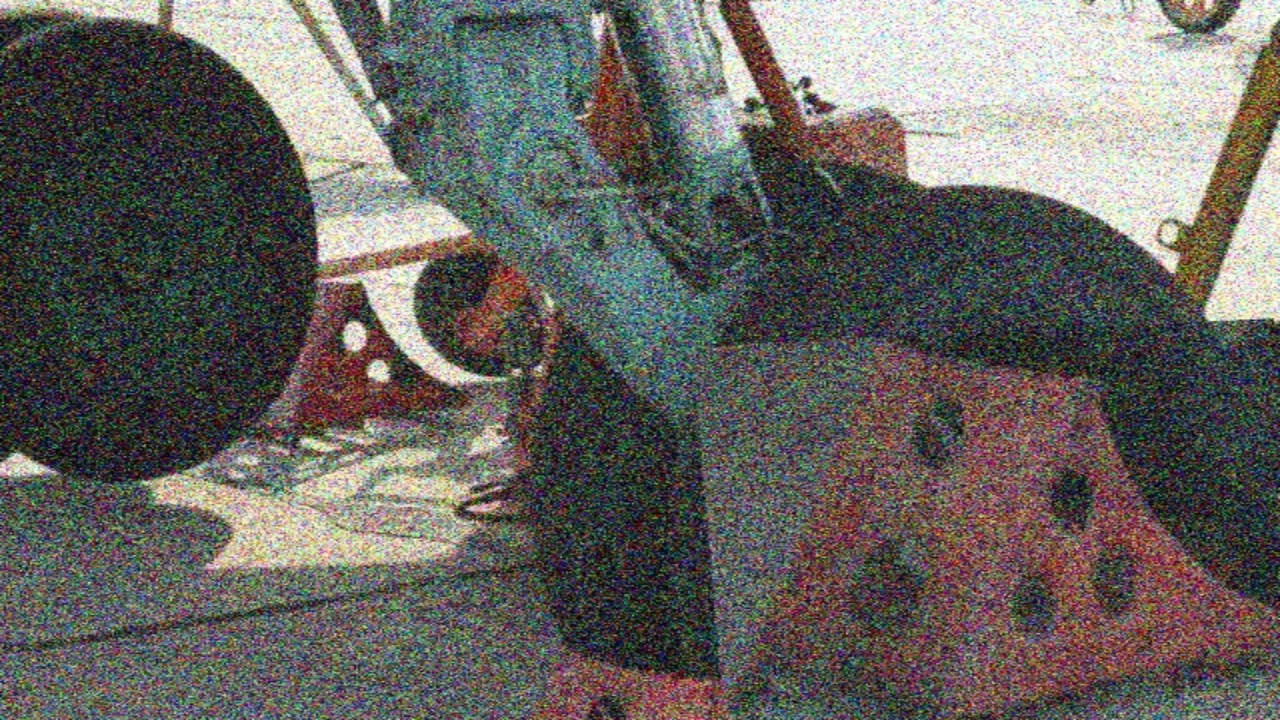chock: (692, 318, 1280, 720), (938, 479, 1280, 720), (414, 634, 890, 720)
wheel: (637, 168, 1280, 720), (0, 0, 336, 491)
